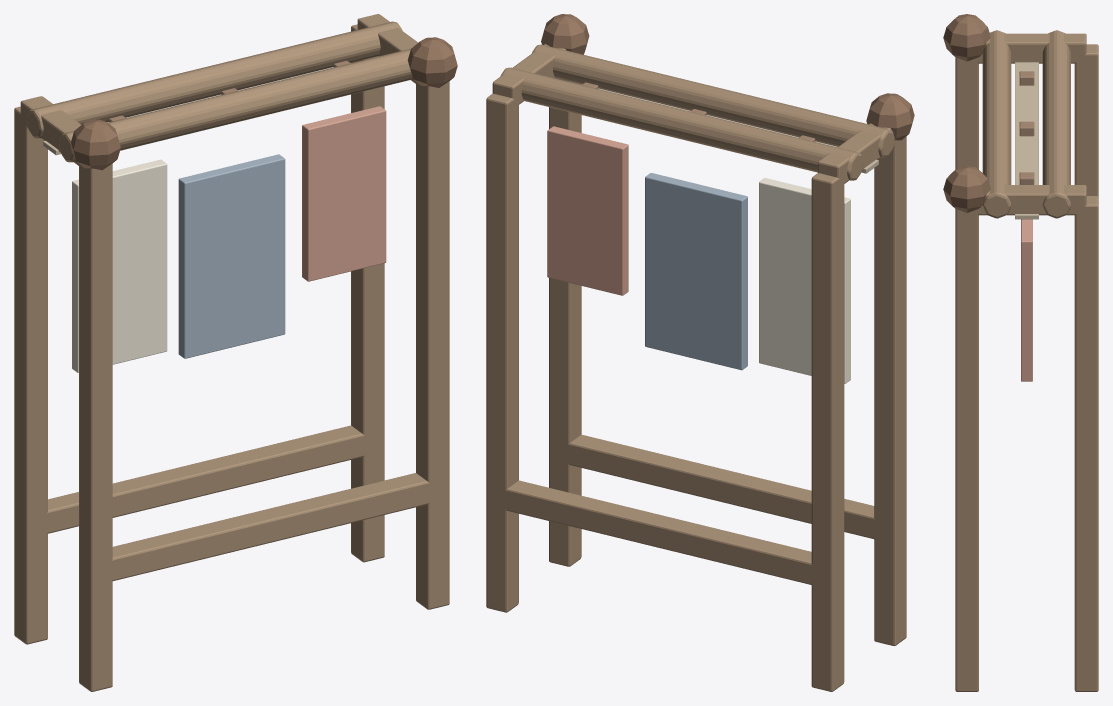
File: drying_rack_v2.glb
3 renders of one model, left to right at view 1: azimuth 30°, elevation 25°; view 2: azimuth 150°, elevation 25°; view 3: azimuth 270°, elevation 25°, orthographic. The views are drawn at different scales.
Visible parts, largest first — view 1: Cloth_B, Leg_FL, Leg_BL, Leg_FR, Cloth_R, Cloth_W, Brace_F, Top_Bar_2, Brace_B, Top_Bar_1, Leg_BR, Knot_R (+3 smaller); view 2: Cloth_B, Leg_BL, Leg_BR, Leg_FL, Cloth_R, Cloth_W, Brace_B, Top_Bar_2, Top_Bar_1, Brace_F, Leg_FR, Top_L (+3 smaller); view 3: Leg_BR, Leg_FR, Top_Bar_1, Top_Bar_2, Leg_BL, Leg_FL, Rope_Line, Cloth_R, Top_L, Top_R, Knot_R, Knot_L.
Part boxes in pixels (x1,y1,x2,y2): Cloth_B: (178,154,285,358); Leg_FL: (79,163,112,691); Leg_BL: (14,106,47,644); Leg_FR: (416,81,449,609); Cloth_R: (302,106,386,281); Cloth_W: (72,159,167,372); Brace_F: (104,473,437,582); Top_Bar_2: (27,21,402,138); Brace_B: (39,425,372,534); Top_Bar_1: (59,48,411,162); Leg_BR: (351,24,384,562); Knot_R: (407,37,457,87); Cloth_B: (645,173,747,370); Leg_BL: (811,173,844,691); Leg_BR: (486,93,518,612); Leg_FL: (874,136,906,645); Cloth_R: (547,126,628,295); Cloth_W: (759,178,850,383); Brace_B: (498,480,819,585); Top_Bar_2: (500,67,863,180); Top_Bar_1: (532,44,894,157); Brace_F: (560,434,882,540); Leg_FR: (549,78,581,566); Top_L: (818,123,900,186); Leg_BR: (1074,196,1098,691); Leg_FR: (955,209,978,691); Top_Bar_1: (982,30,1011,218); Top_Bar_2: (1042,30,1070,218); Leg_BL: (1074,44,1098,196); Leg_FL: (955,57,978,169); Rope_Line: (1015,62,1038,219); Cloth_R: (1021,219,1032,381); Top_L: (969,33,1086,63); Top_R: (976,185,1086,215); Knot_R: (943,165,990,212); Knot_L: (943,14,990,61).
Bounding box in the file's own units: 0.68 × 0.96 × 0.26.
